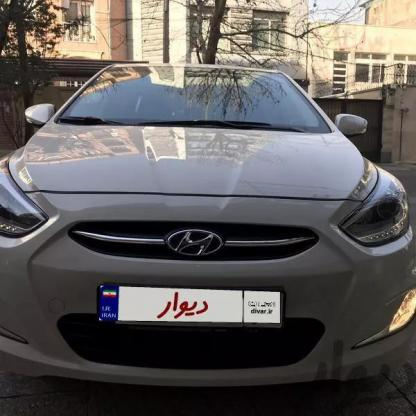Car: (0, 53, 416, 408)
